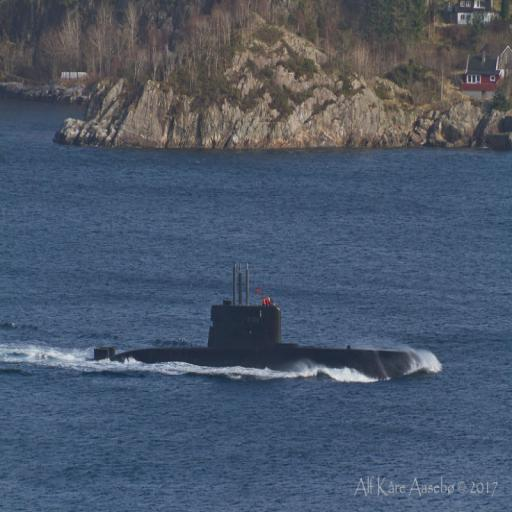submarine: (92, 259, 442, 383)
